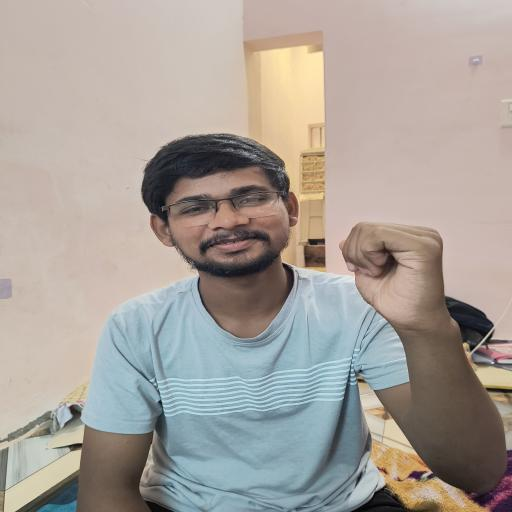wait: (322, 208, 476, 343)
